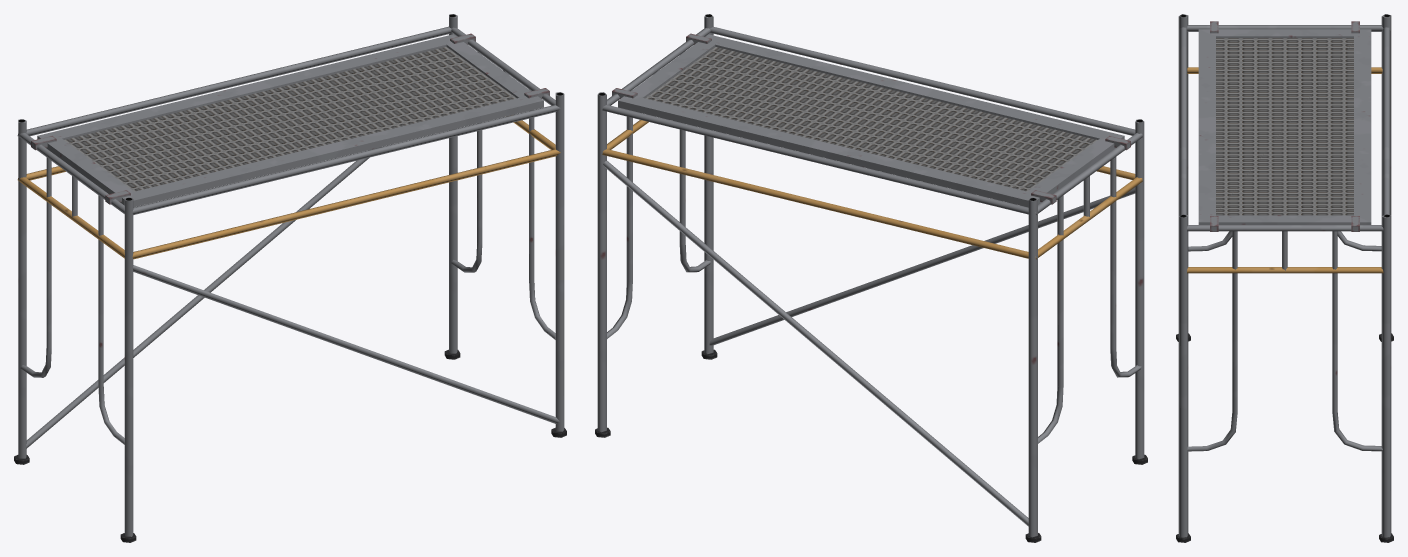
File: Scaffold1_LOD1.fbx
3 renders of one model, left to right at view 1: azimuth 30°, elevation 25°; view 2: azimuth 150°, elevation 25°; view 3: azimuth 270°, elevation 25°, orthographic. The views are drawn at different scales.
Parts seen in each view (by area): view 1: polySurface1438; view 2: polySurface1438; view 3: polySurface1438.
Boxes of the visible parts, box(x1,y1,x2,y2) form: polySurface1438: box(14, 14, 566, 542); polySurface1438: box(595, 14, 1147, 542); polySurface1438: box(1176, 14, 1393, 542).
Size of the model in its own units: 343 by 251 by 153.
